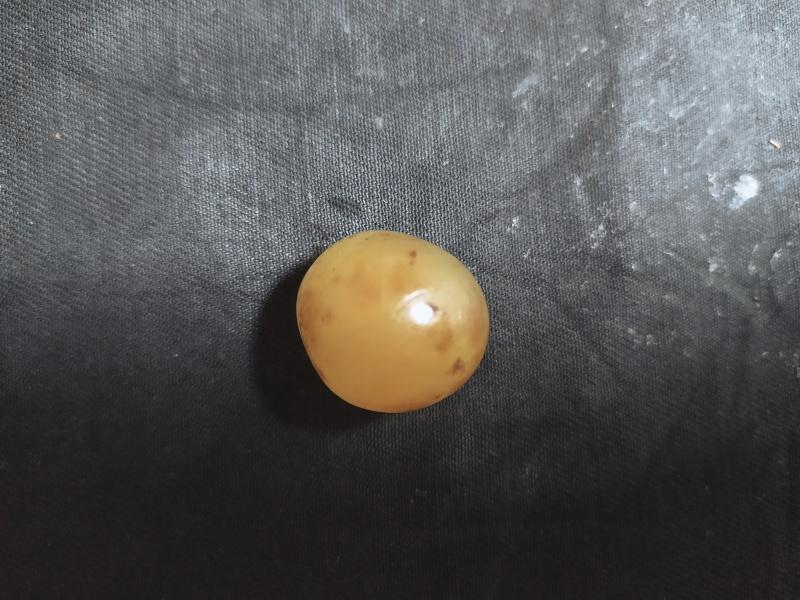Grape Rotten: (293, 227, 491, 417)
